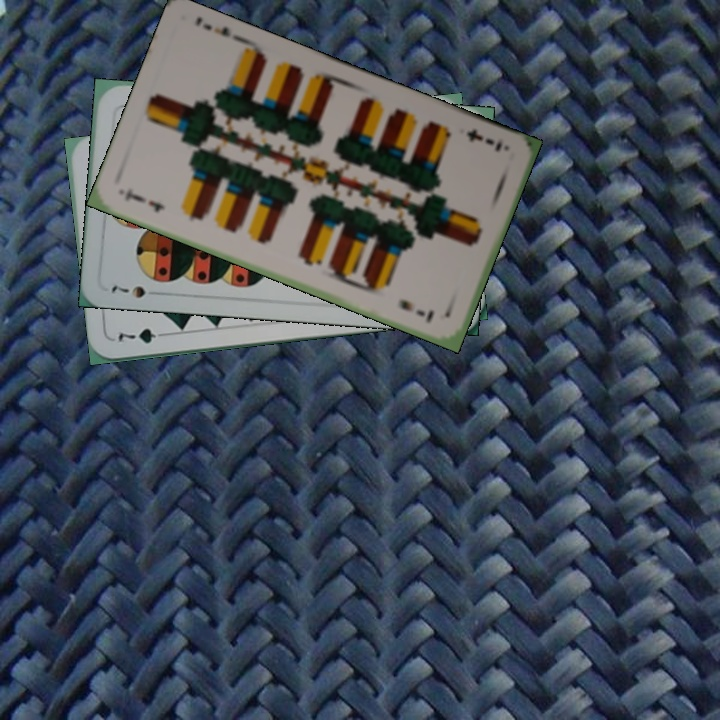E7: (120, 184, 168, 215), (462, 124, 505, 155)
G7: (114, 324, 171, 346)
S7: (107, 281, 148, 301)
